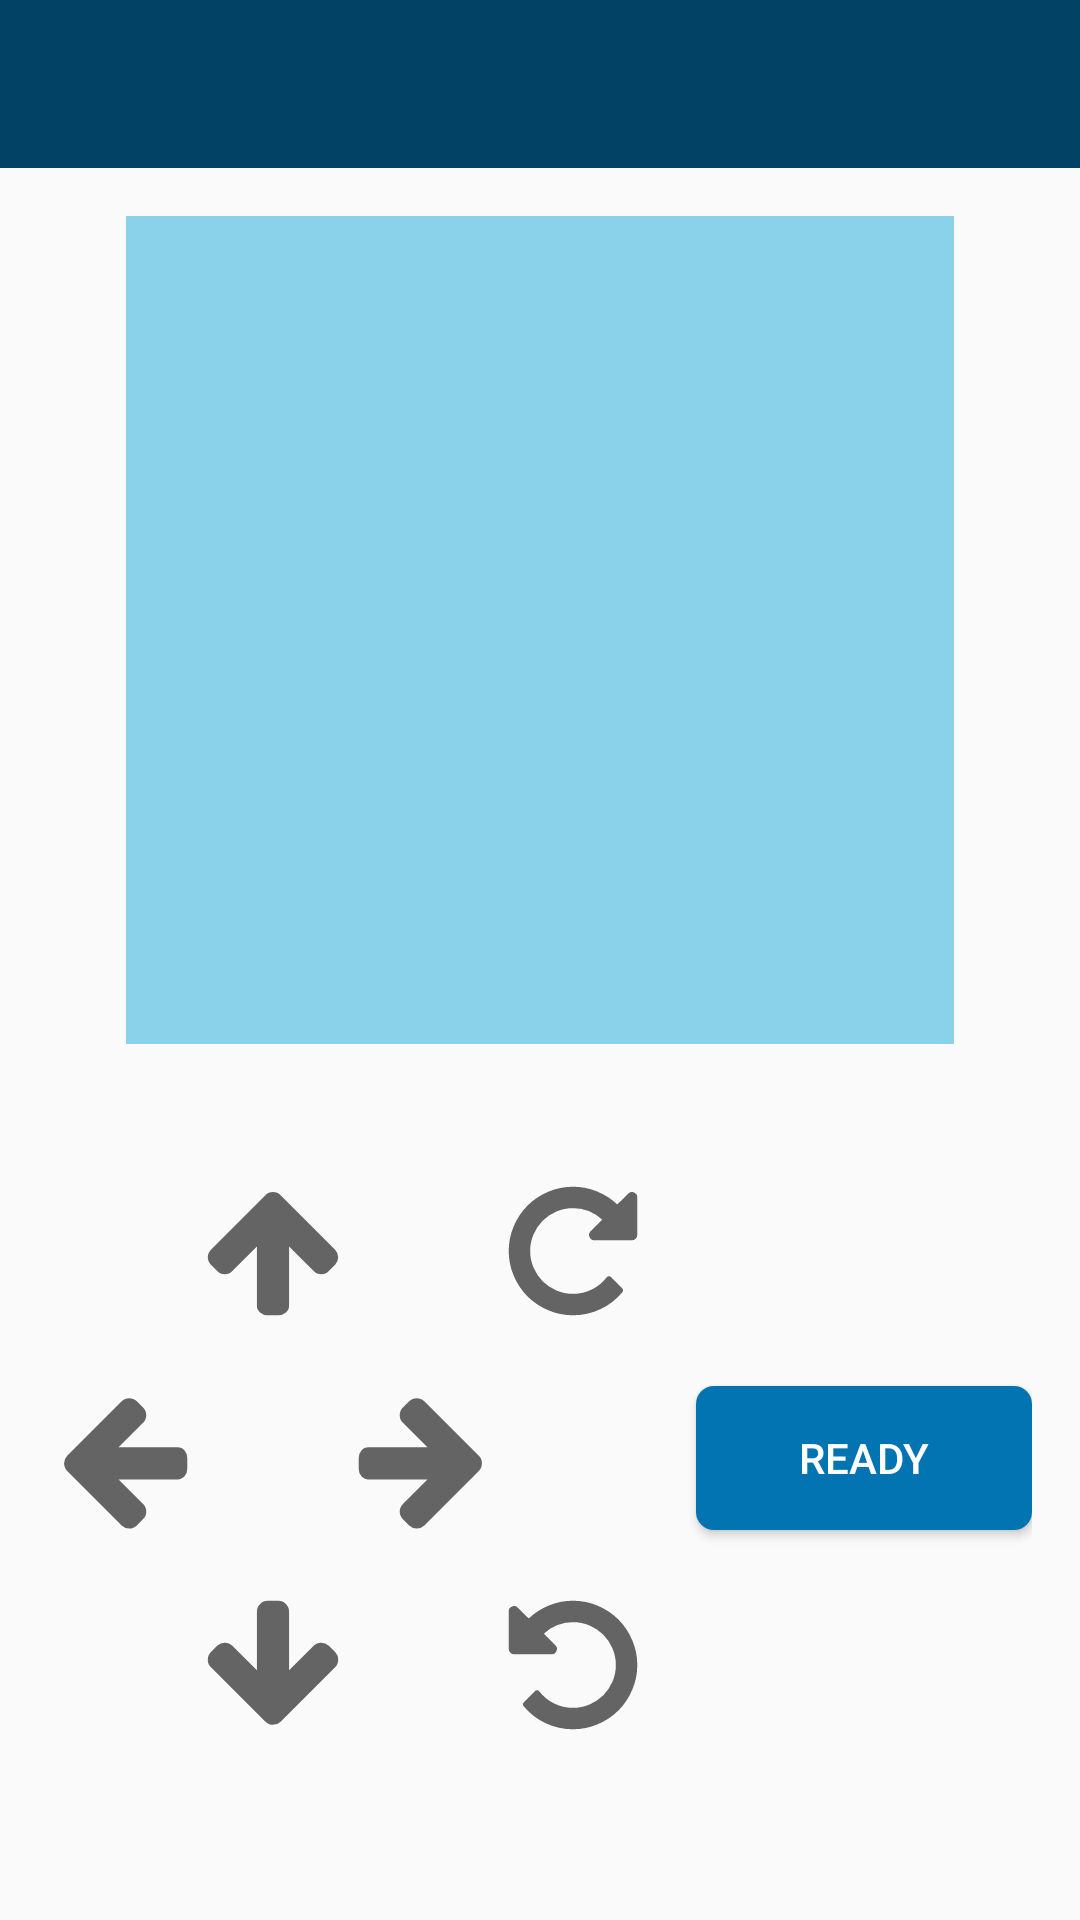

Icon bounding boxes for this 1080px x 1920px phone screenshot, format (x1, y1, x2, y2):
Move ship downwards: (207, 1600, 338, 1725)
Move ship to the left: (64, 1398, 188, 1529)
Move ship to the right: (358, 1398, 482, 1529)
Move ship upwards: (207, 1192, 338, 1316)
Turn ship to the left: (508, 1600, 638, 1730)
Turn ship to the right: (508, 1186, 638, 1316)
